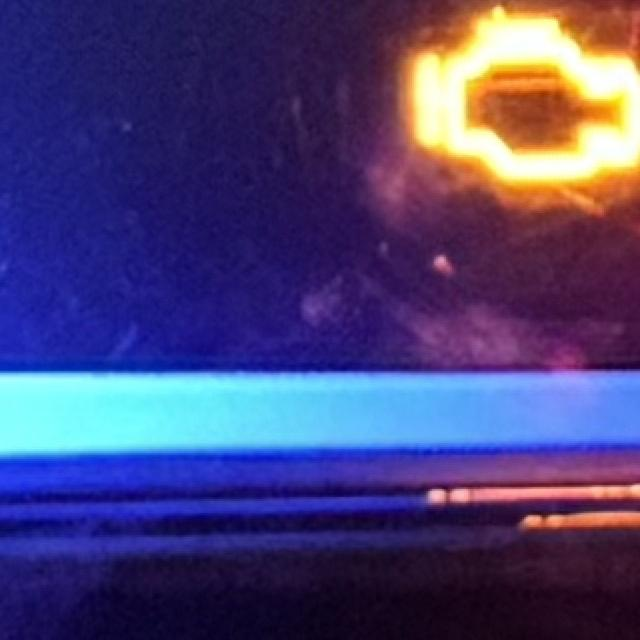Engine Issue: (404, 11, 640, 187)
